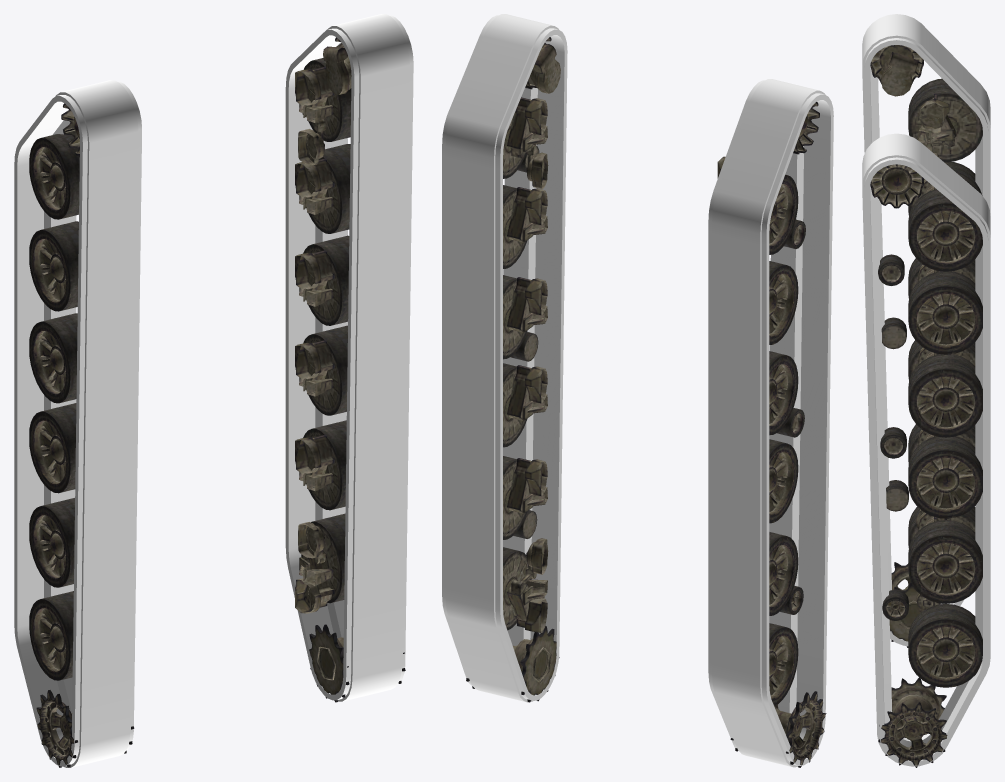
The model's file is Chassis.glb.
3 views of the same model, side by side, from view 1: azimuth 30°, elevation 25°; view 2: azimuth 150°, elevation 25°; view 3: azimuth 270°, elevation 25° (orthographic). The views are drawn at different scales.
Visible parts, largest first — view 1: set_0_group_0, set_1_group_0, set_3_group_0, set_2_group_0; view 2: set_0_group_0, set_1_group_0, set_3_group_0, set_2_group_0; view 3: set_3_group_0, set_1_group_0, set_2_group_0, set_0_group_0.
Boxes of the visible parts, left/top/right/bottom form: set_0_group_0: left=14, top=80, right=141, bottom=767; set_1_group_0: left=285, top=14, right=413, bottom=701; set_3_group_0: left=295, top=37, right=405, bottom=702; set_2_group_0: left=29, top=103, right=134, bottom=767; set_0_group_0: left=708, top=79, right=833, bottom=767; set_1_group_0: left=442, top=14, right=567, bottom=702; set_3_group_0: left=466, top=37, right=560, bottom=702; set_2_group_0: left=717, top=102, right=826, bottom=767; set_3_group_0: left=870, top=164, right=982, bottom=767; set_1_group_0: left=862, top=133, right=990, bottom=766; set_2_group_0: left=870, top=45, right=982, bottom=647; set_0_group_0: left=862, top=14, right=990, bottom=646.
Size of the model in its own units: 3.24 by 6.34 by 1.21.
4 materials, 2 textured.
